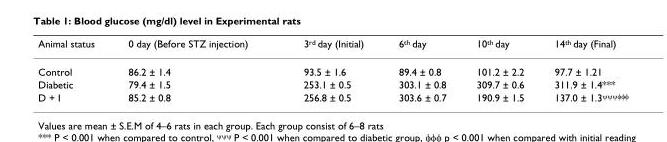table: (37, 37, 627, 102)
table column: (110, 37, 275, 102), (275, 37, 380, 102), (538, 37, 627, 102), (380, 37, 460, 102), (460, 37, 538, 102), (37, 37, 110, 102)
table column header: (37, 37, 627, 57)
table row: (37, 37, 627, 57), (37, 57, 627, 77), (37, 77, 627, 90), (37, 90, 627, 102)
